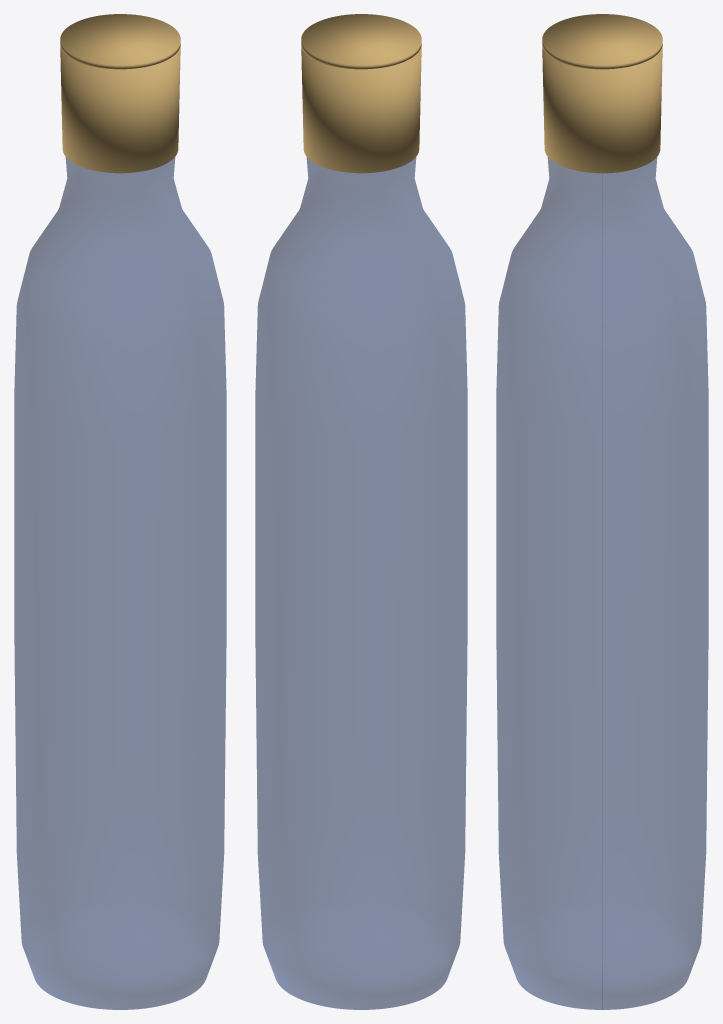
The model's file is lueur.glb.
3 views of the same model, side by side, from view 1: azimuth 30°, elevation 25°; view 2: azimuth 150°, elevation 25°; view 3: azimuth 270°, elevation 25° (orthographic).
Parts seen in each view (by area): view 1: lueur; view 2: lueur; view 3: lueur.
Part boxes in pixels (box(x1,y1,x2,y2)): lueur: box(14, 14, 226, 1009); lueur: box(255, 14, 467, 1009); lueur: box(496, 14, 708, 1009).
Size of the model in its own units: 0.88 by 4.27 by 0.88.
